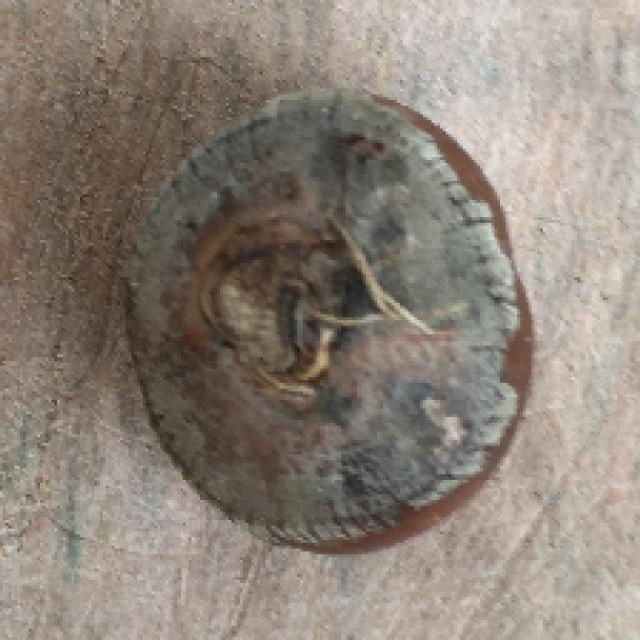damagedHazelnut: (106, 88, 534, 559)
